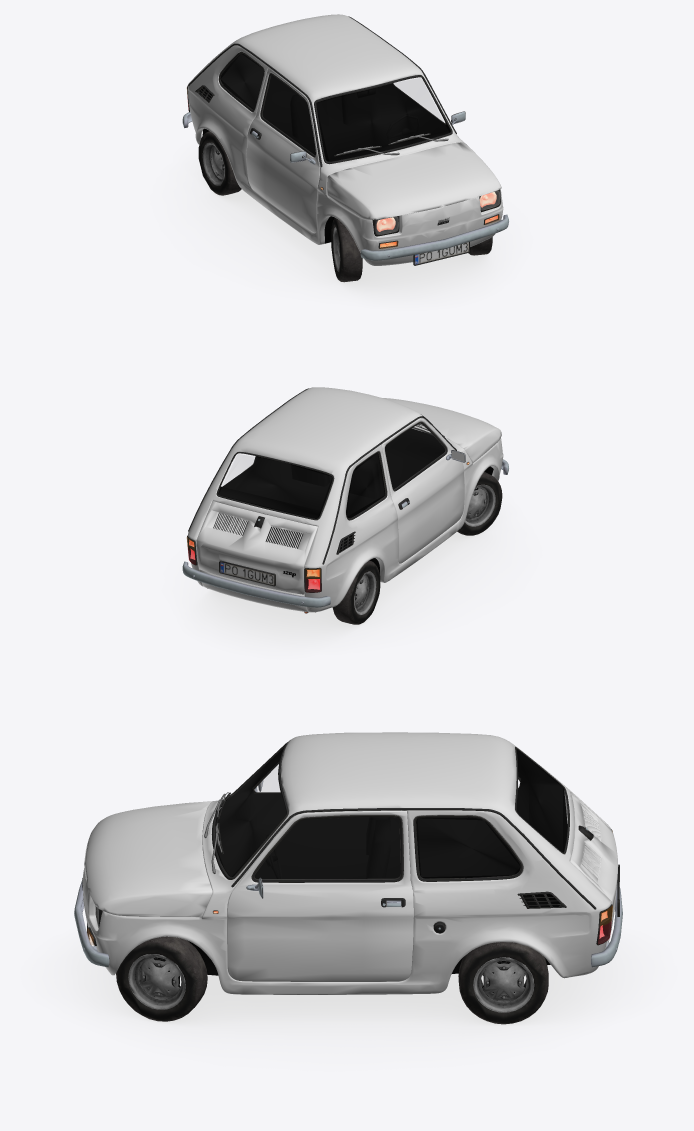
The model's file is fiat-126p.glb.
3 views of the same model, one above another, from view 1: azimuth 30°, elevation 25°; view 2: azimuth 150°, elevation 25°; view 3: azimuth 270°, elevation 25° (orthographic). The views are drawn at different scales.
Parts seen in each view (by area): view 1: Fiat_126P_1, Object_4, Fiat_126P_Wheel_Rear_Right_5, Fiat_126P_Wheel_Front_Right_3; view 2: Fiat_126P_1, Object_4, Fiat_126P_Wheel_Rear_Right_5, Fiat_126P_Wheel_Front_Right_3; view 3: Fiat_126P_1, Object_4, Fiat_126P_Wheel_Rear_Left_4, Fiat_126P_Wheel_Front_Left_2.
Boxes of the visible parts, bbox=[...] form: Fiat_126P_1: bbox=[182, 14, 508, 265]; Object_4: bbox=[179, 151, 509, 303]; Fiat_126P_Wheel_Rear_Right_5: bbox=[198, 131, 241, 195]; Fiat_126P_Wheel_Front_Right_3: bbox=[331, 218, 362, 282]; Fiat_126P_1: bbox=[182, 387, 508, 613]; Object_4: bbox=[184, 504, 512, 651]; Fiat_126P_Wheel_Rear_Right_5: bbox=[332, 560, 380, 624]; Fiat_126P_Wheel_Front_Right_3: bbox=[457, 472, 502, 535]; Fiat_126P_1: bbox=[74, 732, 622, 994]; Object_4: bbox=[47, 932, 650, 1050]; Fiat_126P_Wheel_Rear_Left_4: bbox=[458, 942, 548, 1024]; Fiat_126P_Wheel_Front_Left_2: bbox=[116, 936, 207, 1021].
Bounding box in the file's own units: 3.67 × 1.31 × 3.67.
Materials: 21 (14 with a texture image).
